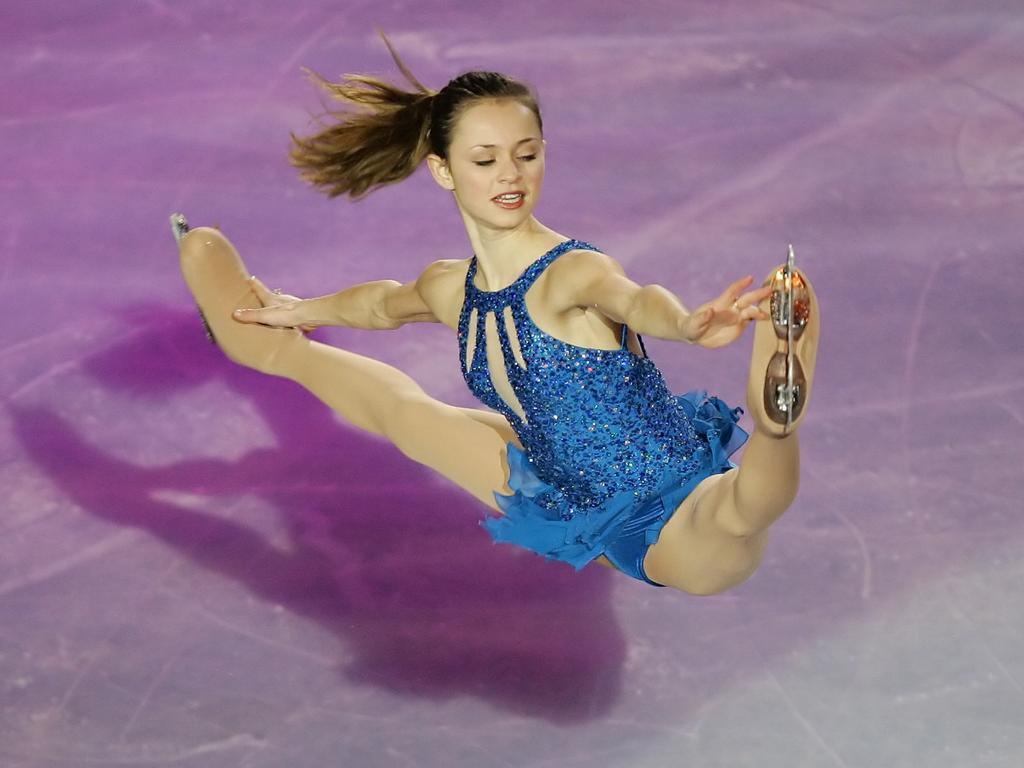face: (455, 97, 545, 231)
